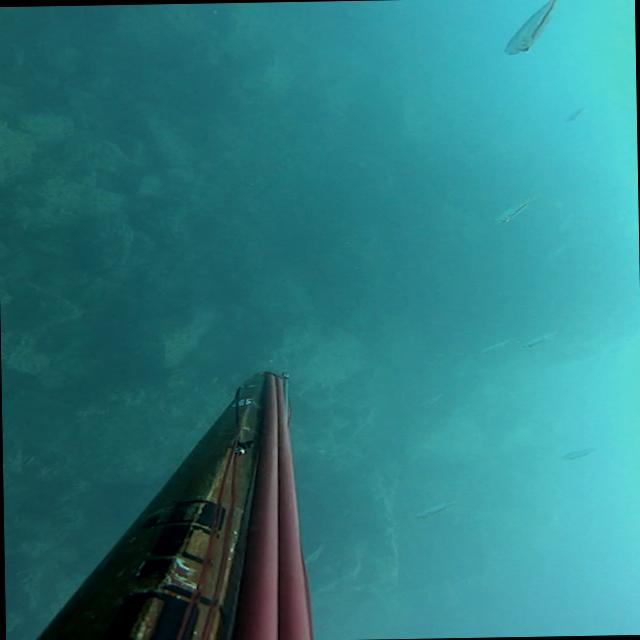Balon Baligi: (503, 0, 559, 53), (494, 194, 536, 222), (416, 500, 460, 518), (520, 329, 562, 346), (562, 446, 602, 458), (479, 338, 512, 352), (303, 544, 324, 564), (566, 108, 584, 120)
